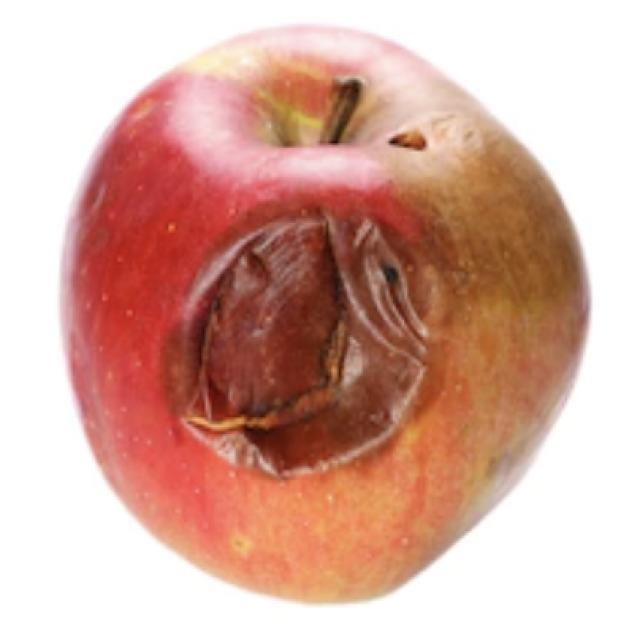Rotten: (58, 21, 597, 606)
